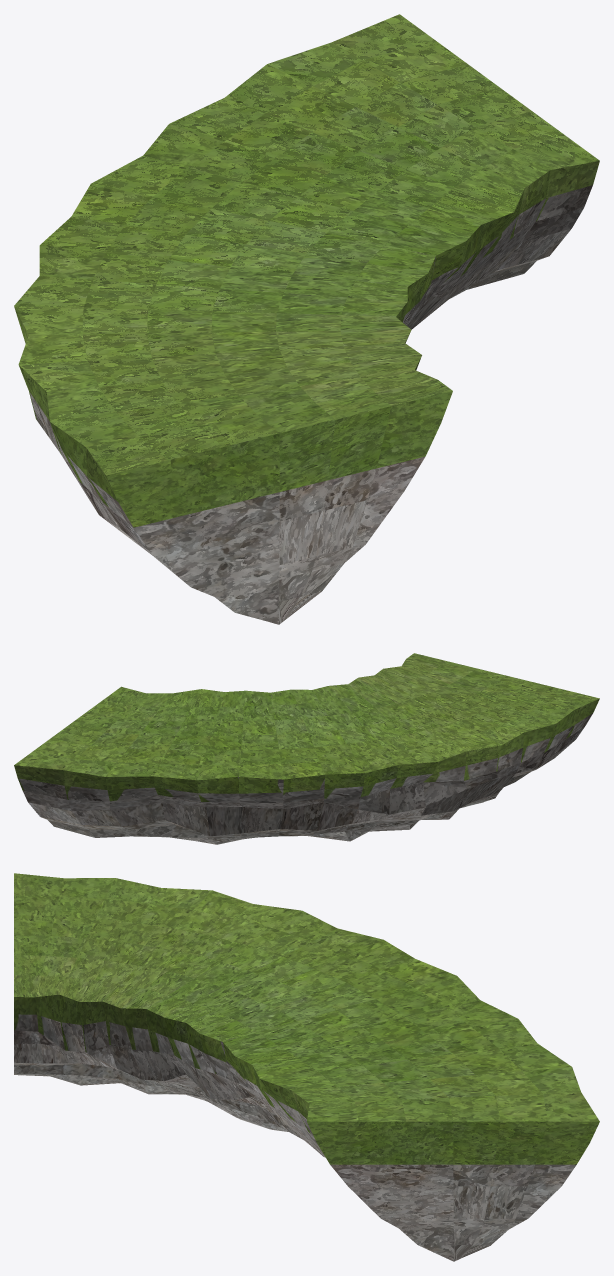
File: Bocht90_extrashort.FBX
The picture shows the model from 3 angles, top to bottom: view 1: azimuth 30°, elevation 25°; view 2: azimuth 150°, elevation 25°; view 3: azimuth 270°, elevation 25°; orthographic projection. The views are drawn at different scales.
Visible parts, largest first — view 1: Straight_Way_Final011; view 2: Straight_Way_Final011; view 3: Straight_Way_Final011.
Part boxes in pixels (x1,y1,x2,y2): Straight_Way_Final011: (14, 14, 599, 624); Straight_Way_Final011: (14, 653, 599, 844); Straight_Way_Final011: (14, 873, 599, 1261).
Bounding box in the file's own units: 800 × 230 × 800.
